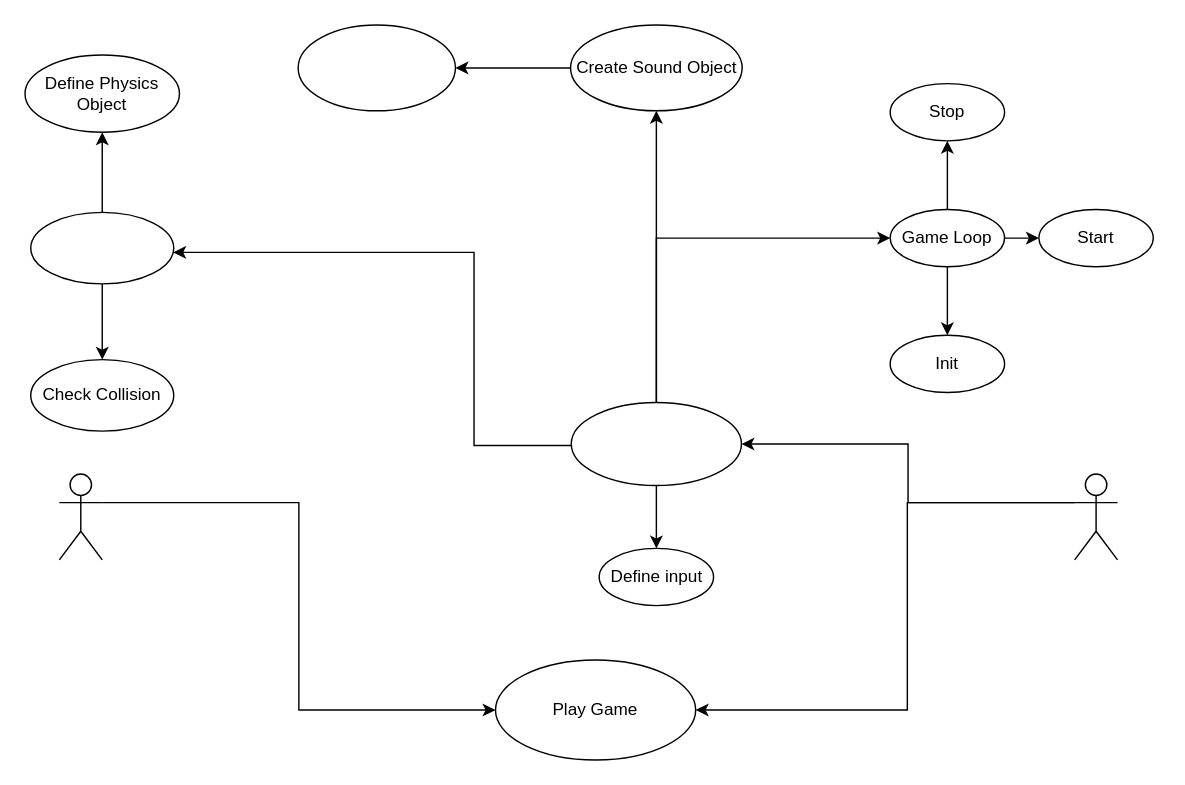
Image size: 1185x785. Some labels were removed from this diagram. Each missing label, with the centre of its shape:
Create Game: point (655, 443)
Game Developer: point (1095, 516)
Game Objects: point (101, 247)
Play / Stop Audio: point (376, 67)
Player: point (80, 516)
